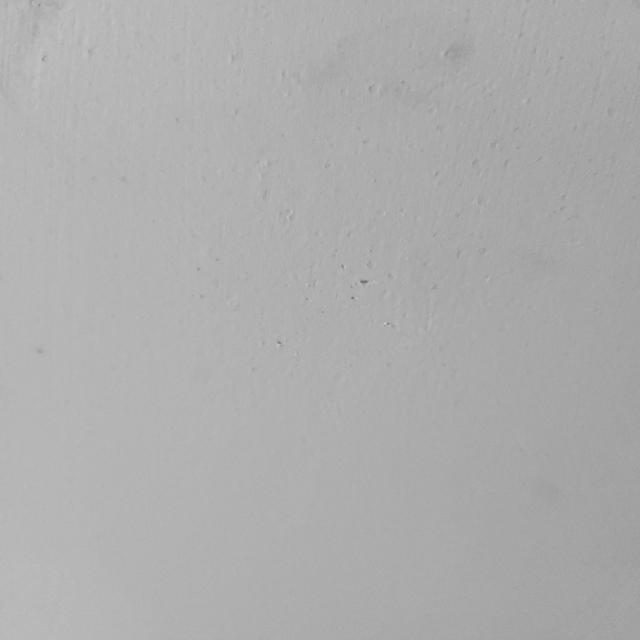rough and patchy surface: (310, 12, 628, 225), (278, 228, 506, 339), (239, 148, 303, 230)
